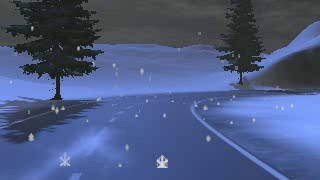Lane: (0, 88, 312, 179)
